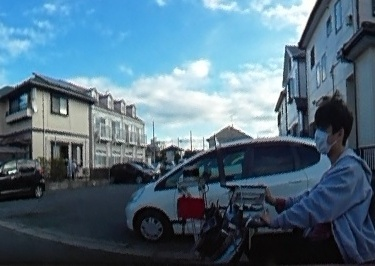person: (279, 94, 374, 266)
